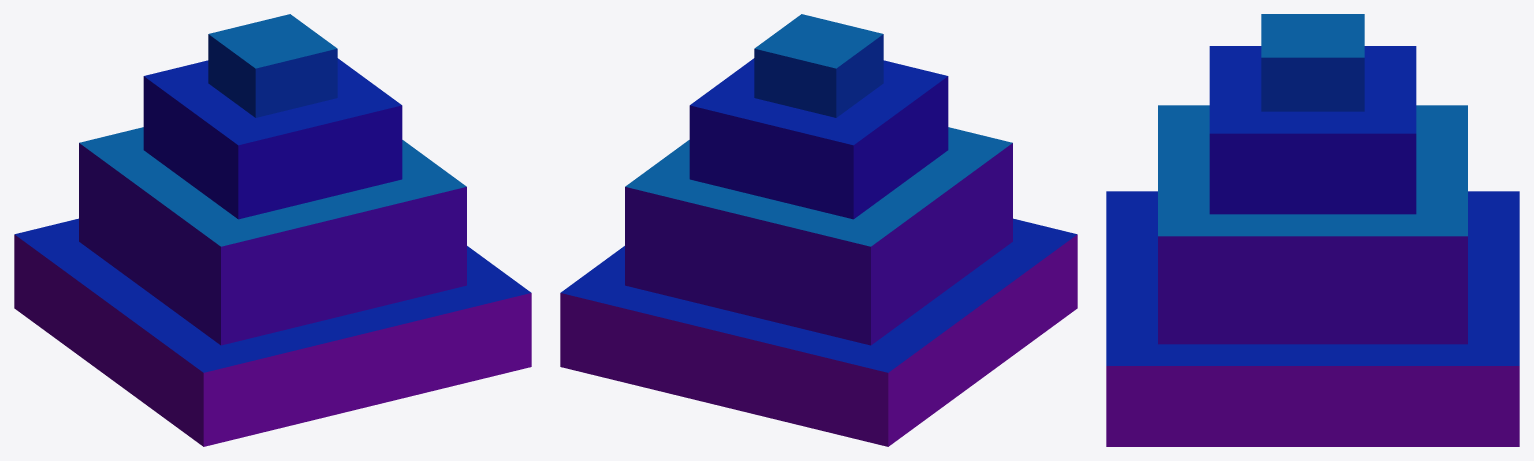
File: va_solar_collector_1.gltf
The picture shows the model from 3 angles, left to right: view 1: azimuth 30°, elevation 25°; view 2: azimuth 150°, elevation 25°; view 3: azimuth 270°, elevation 25°; orthographic projection. The views are drawn at different scales.
Parts seen in each view (by area): view 1: cuboid; view 2: cuboid; view 3: cuboid.
Part boxes in pixels (x1,y1,x2,y2): cuboid: (14, 14, 531, 446); cuboid: (560, 14, 1077, 446); cuboid: (1106, 14, 1519, 446).
Bounding box in the file's own units: 13.75 × 11.88 × 13.75.
